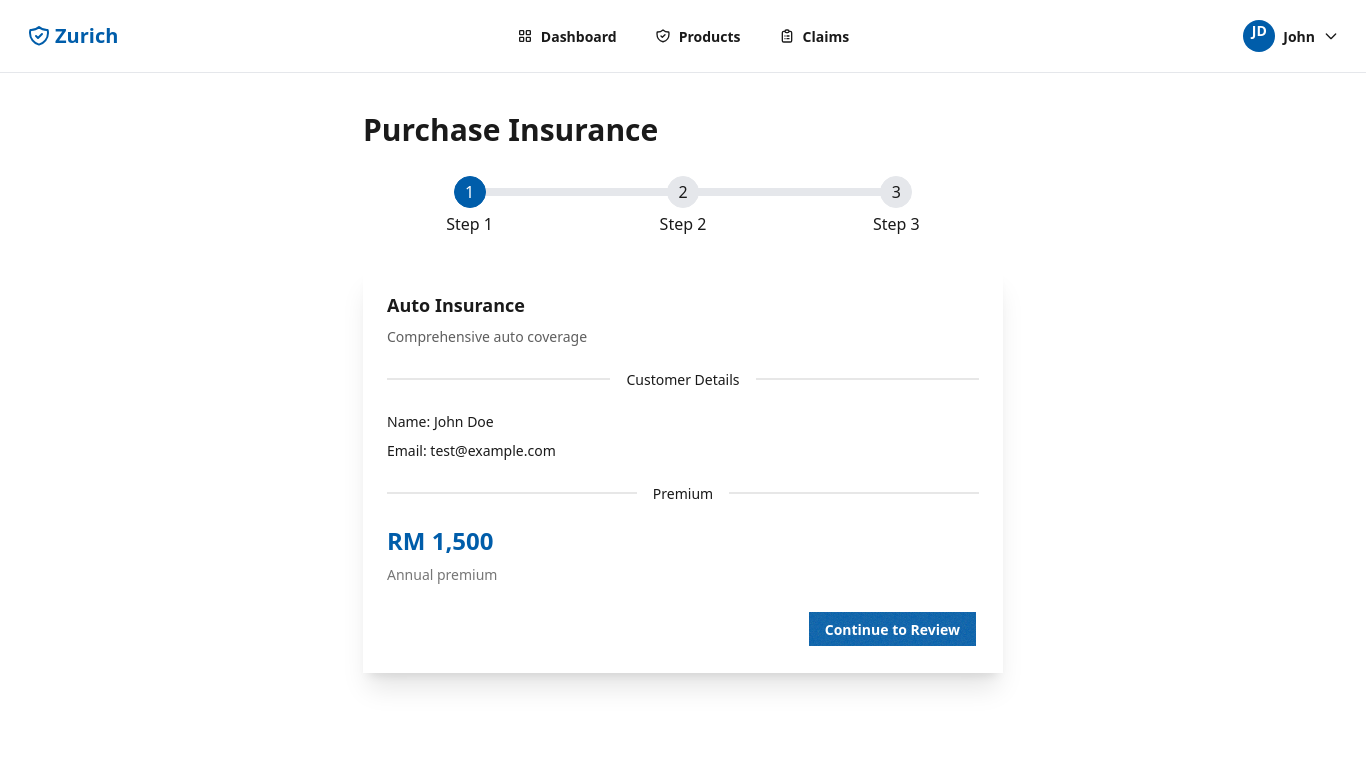
it: Purchase Page › Step 2: "Back" button returns to step 1
Click the button "Continue to Review": (892, 629) [806, 609, 979, 649]
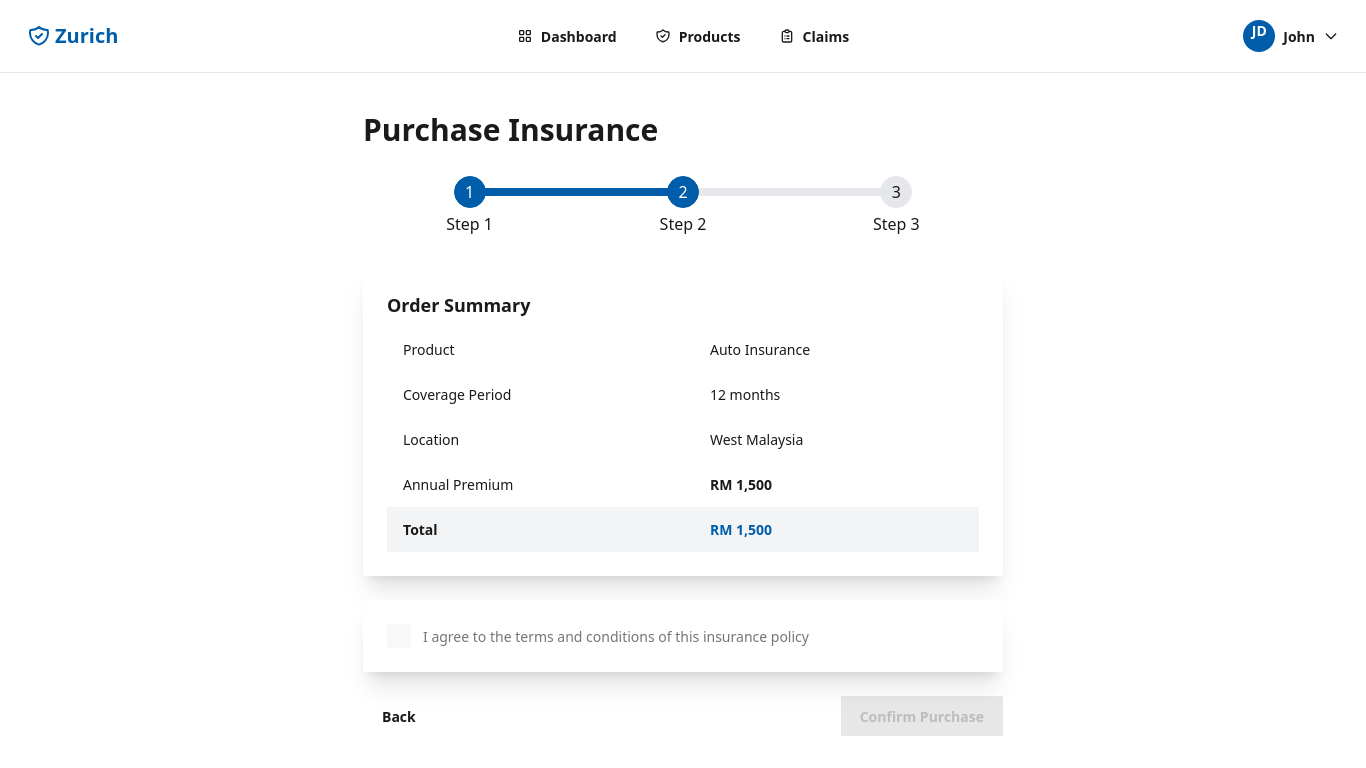
Now the button "Back" is shown
# Go back to step 1
Click the button "Back": (399, 716) [363, 696, 435, 736]
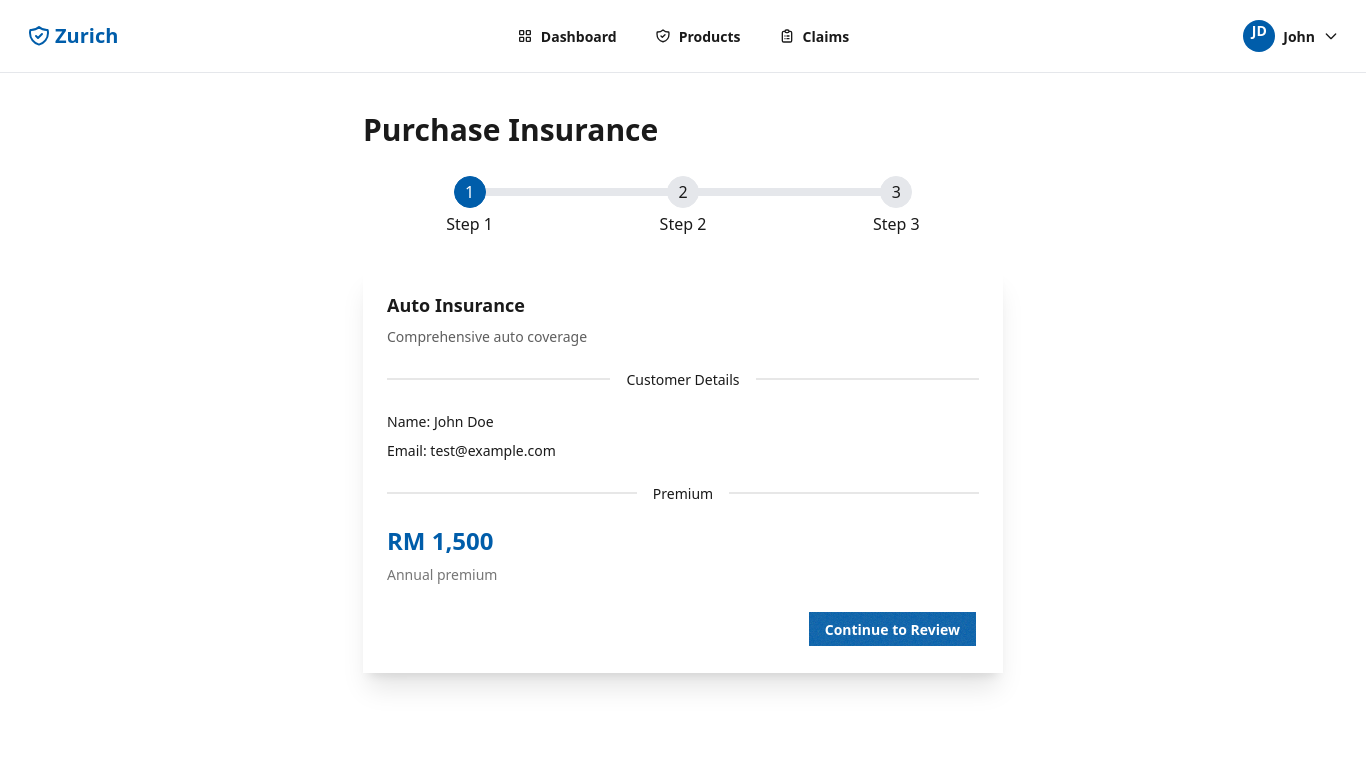
Now the button "Continue to Review" is shown, box [806, 609, 979, 649]
Now the button "Confirm Purchase" is gone
